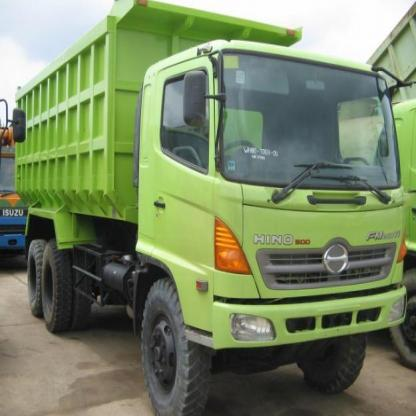dump_truck: (4, 3, 402, 405)
